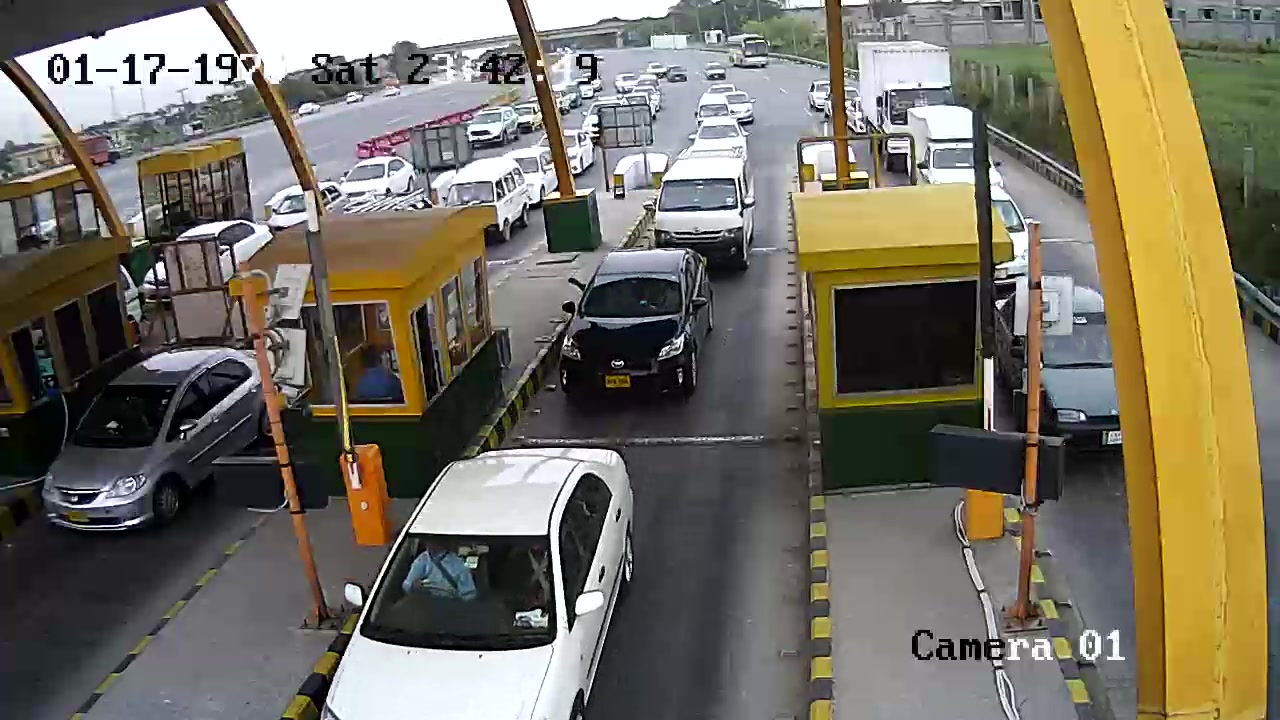F1: (549, 246, 724, 418)
